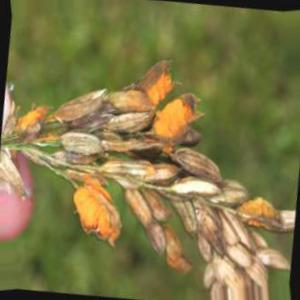Leaf_Scald: (69, 180, 121, 241), (149, 94, 199, 144), (141, 64, 171, 102), (248, 194, 280, 224), (19, 104, 46, 136)
